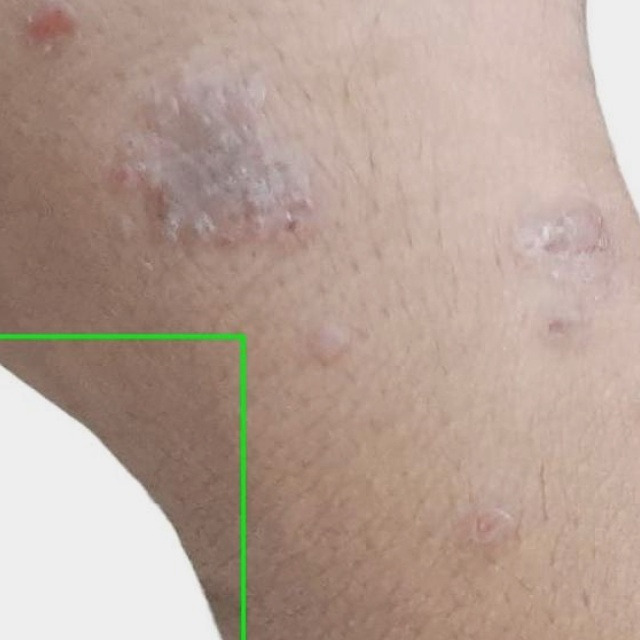Contact Dermatitis: (0, 335, 243, 639)
